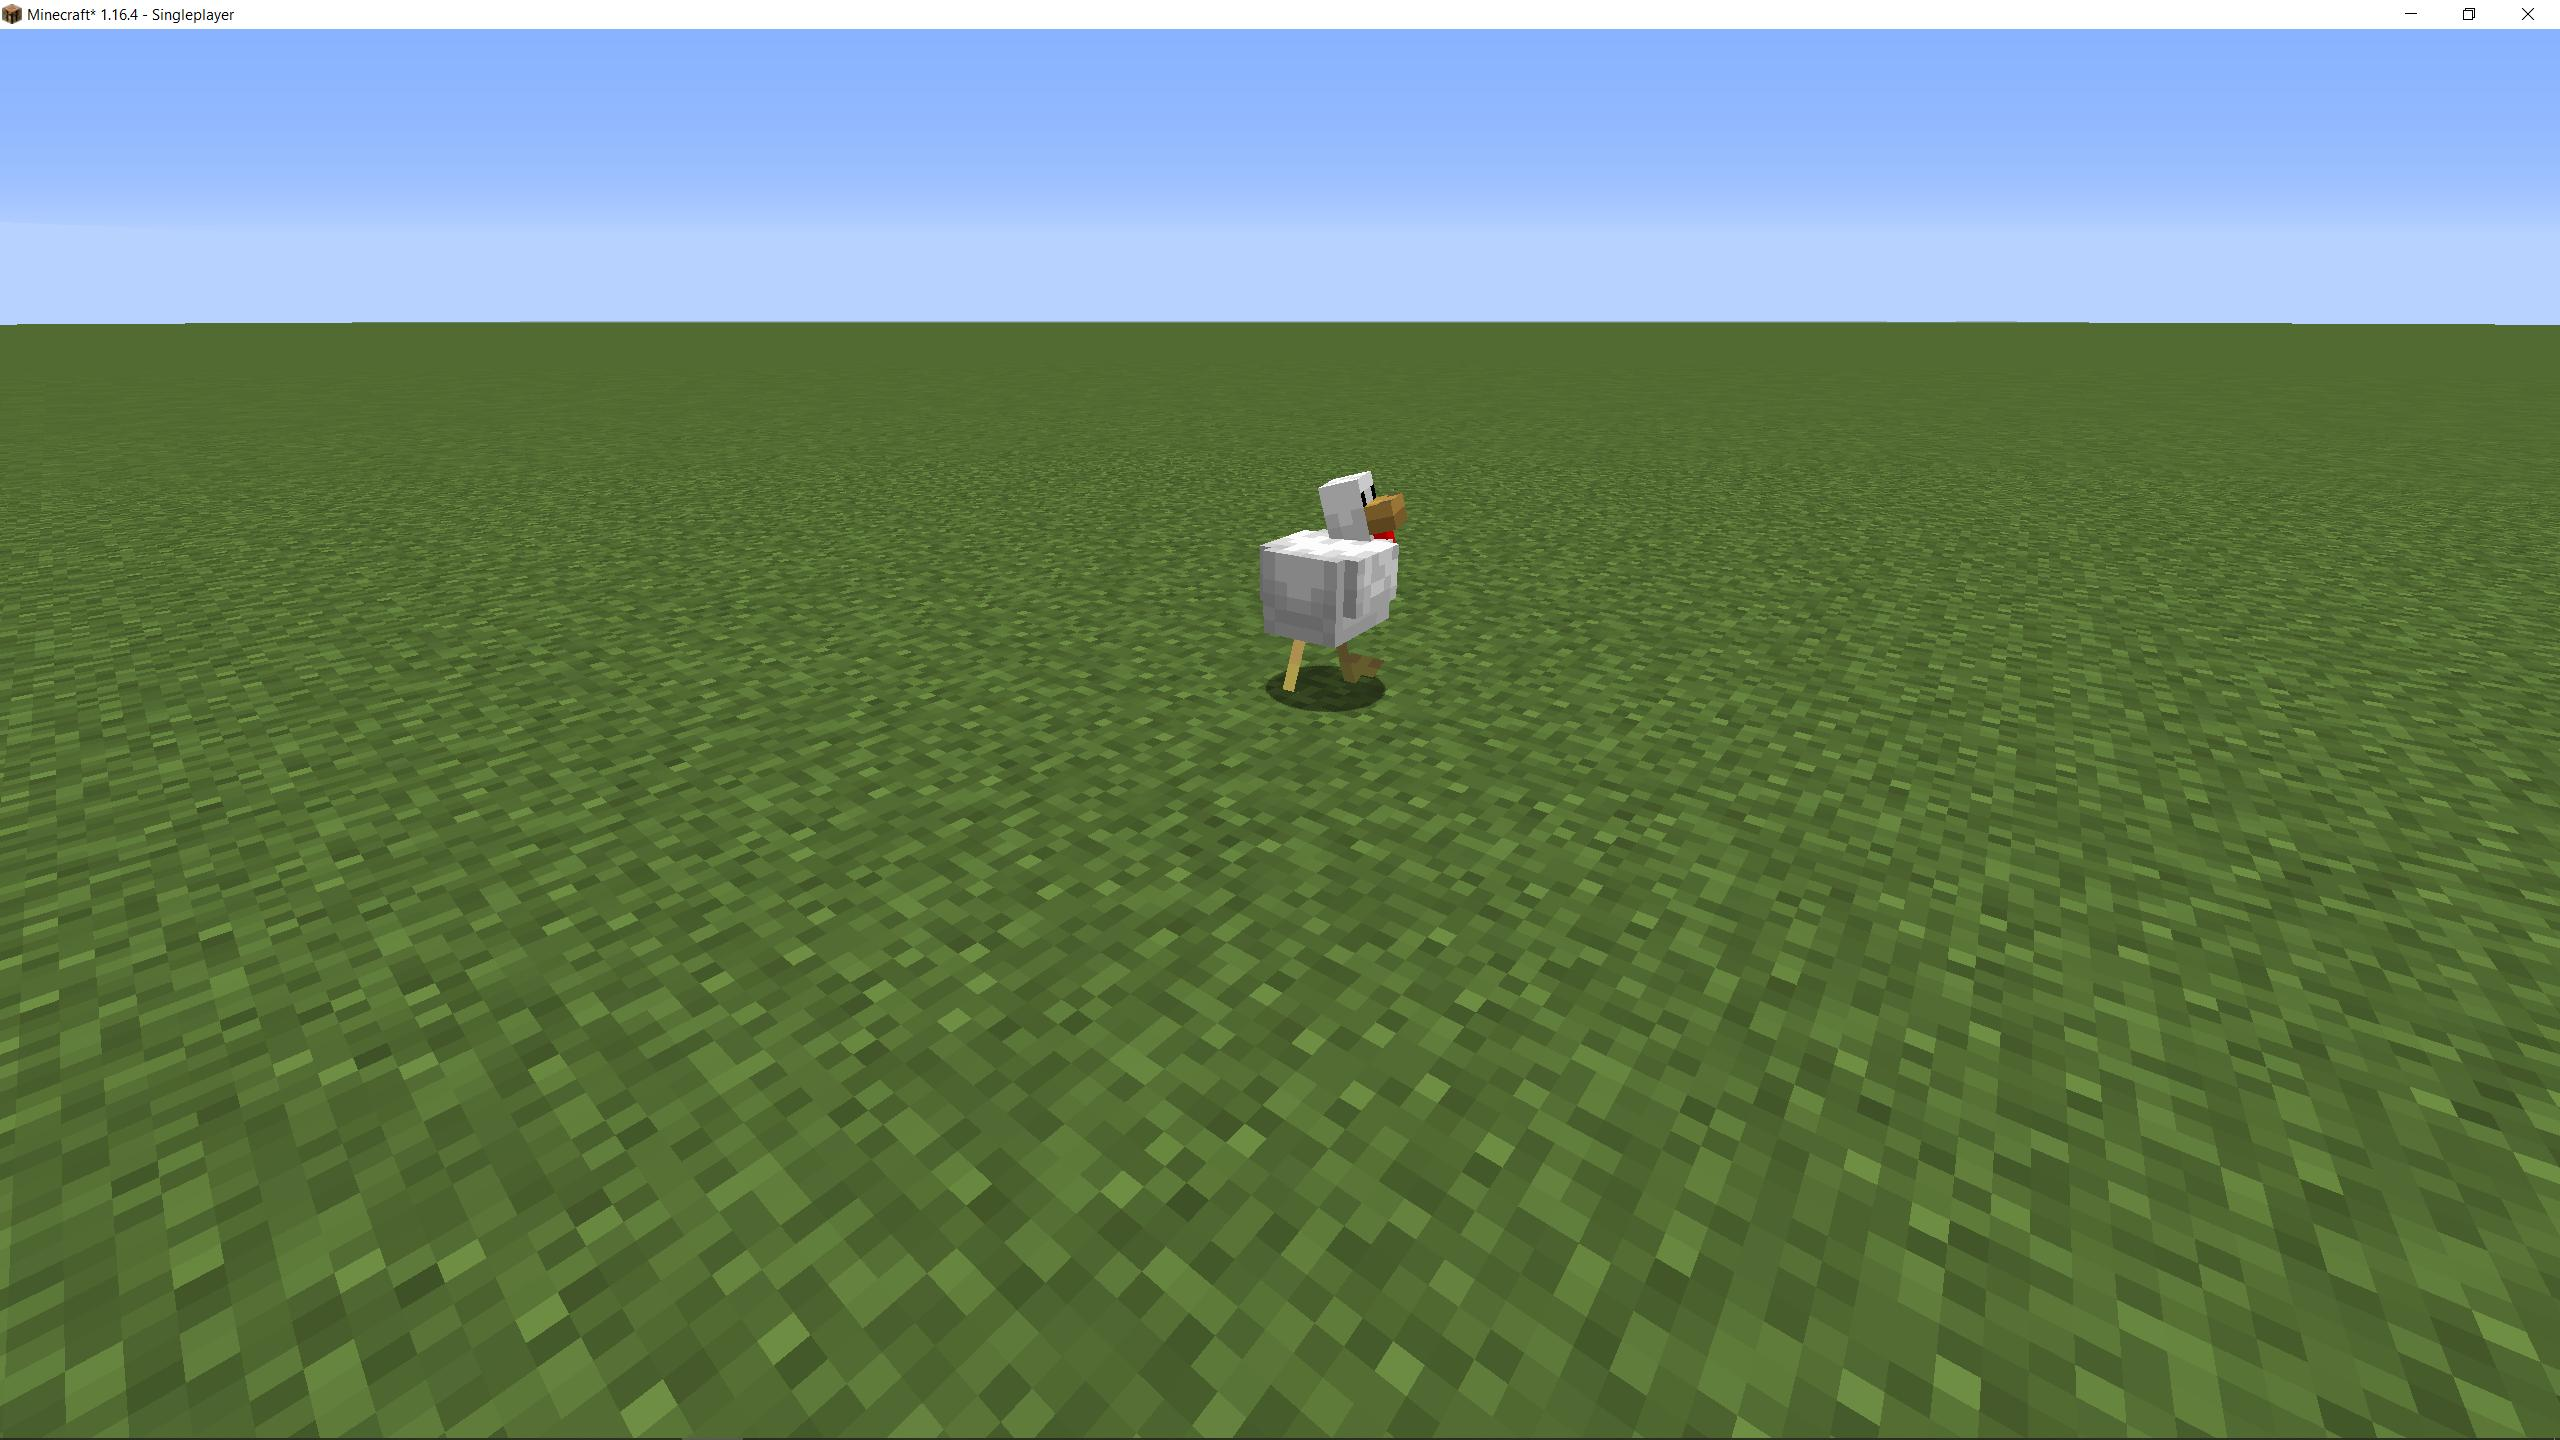chicken: (1250, 455, 1417, 705)
